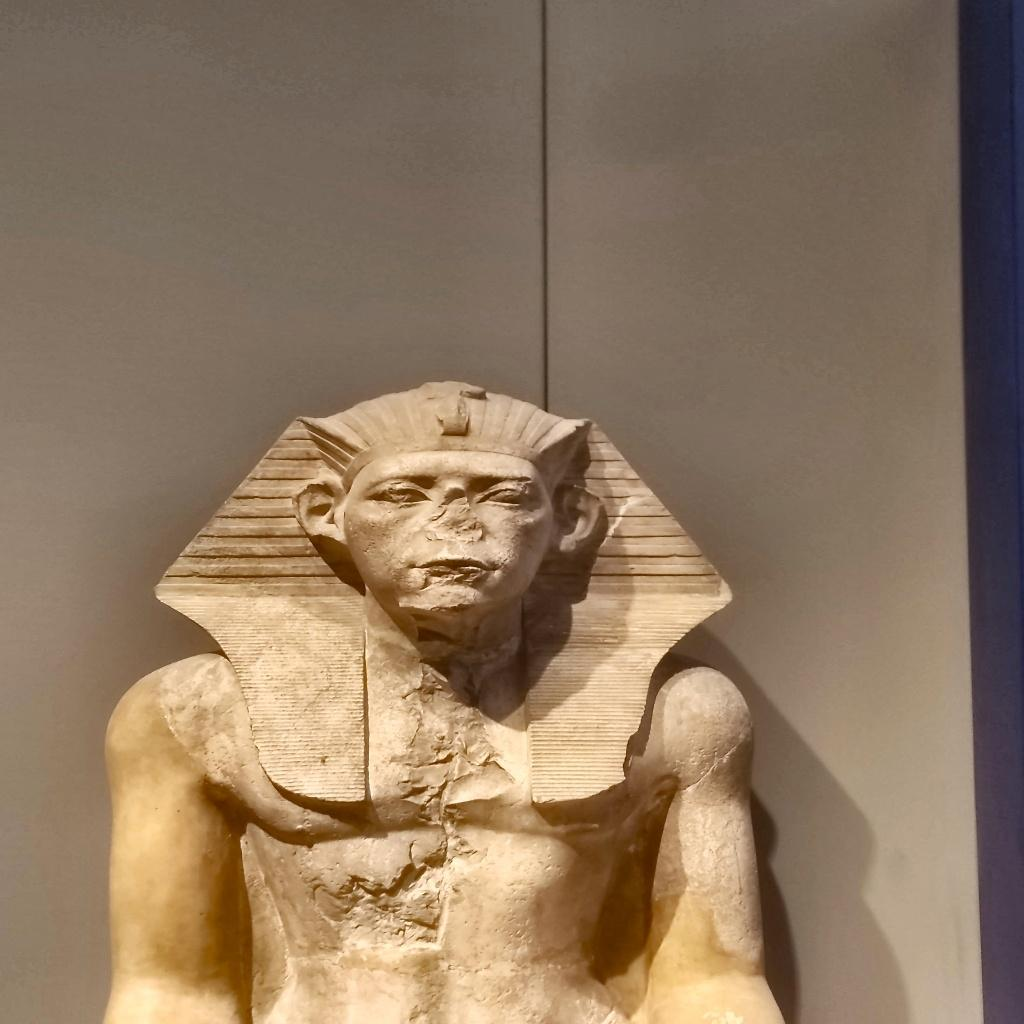Amenhotep III with Plate: (114, 368, 782, 1024)
